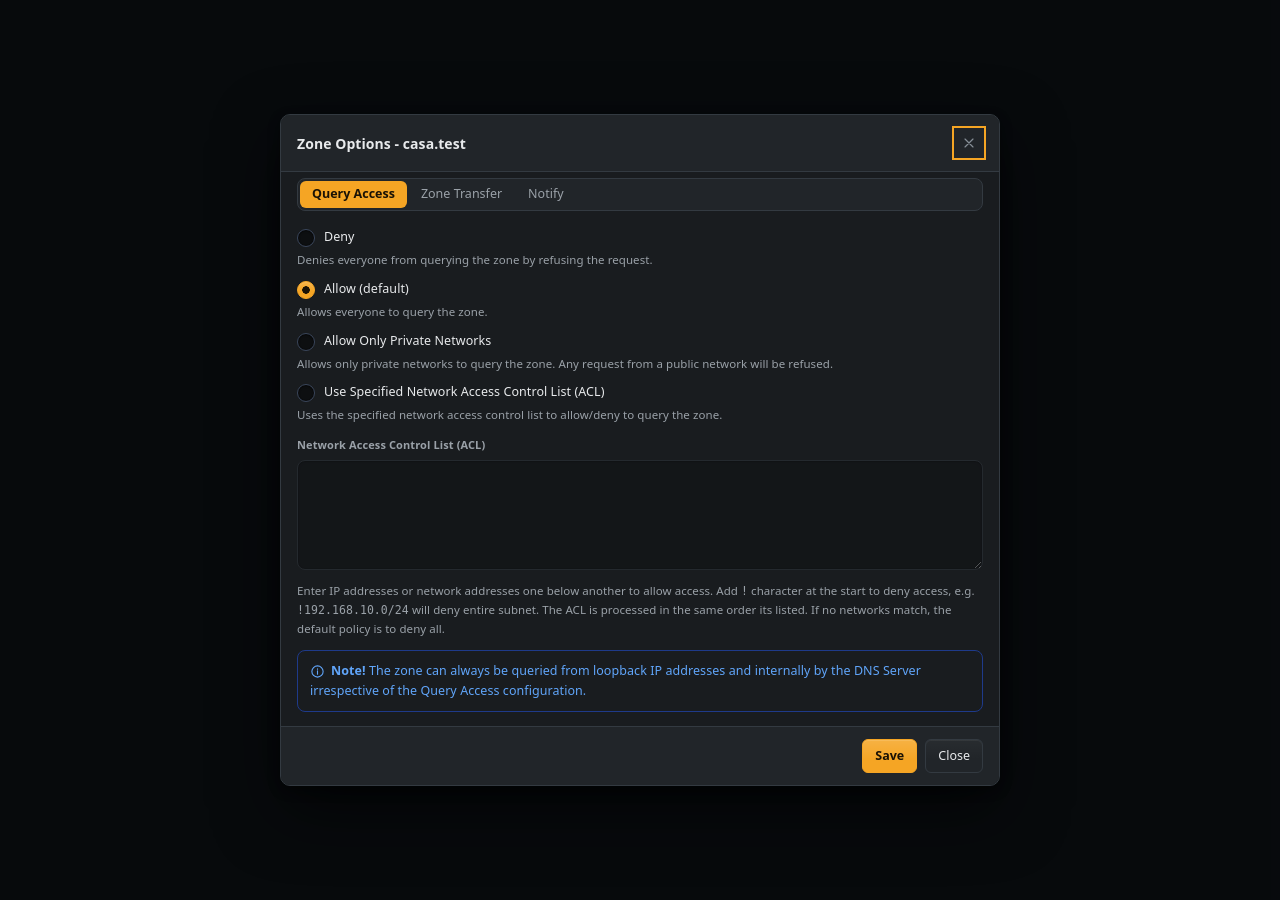
Test case: Zone Options: the explanation under each radio › Notify on a Catalog: the separate-servers radio and the Secondary Catalog list help
This screenshot has width=1280, height=900.
Click the tab "Notify" at (546, 195), box [516,181,576,208]
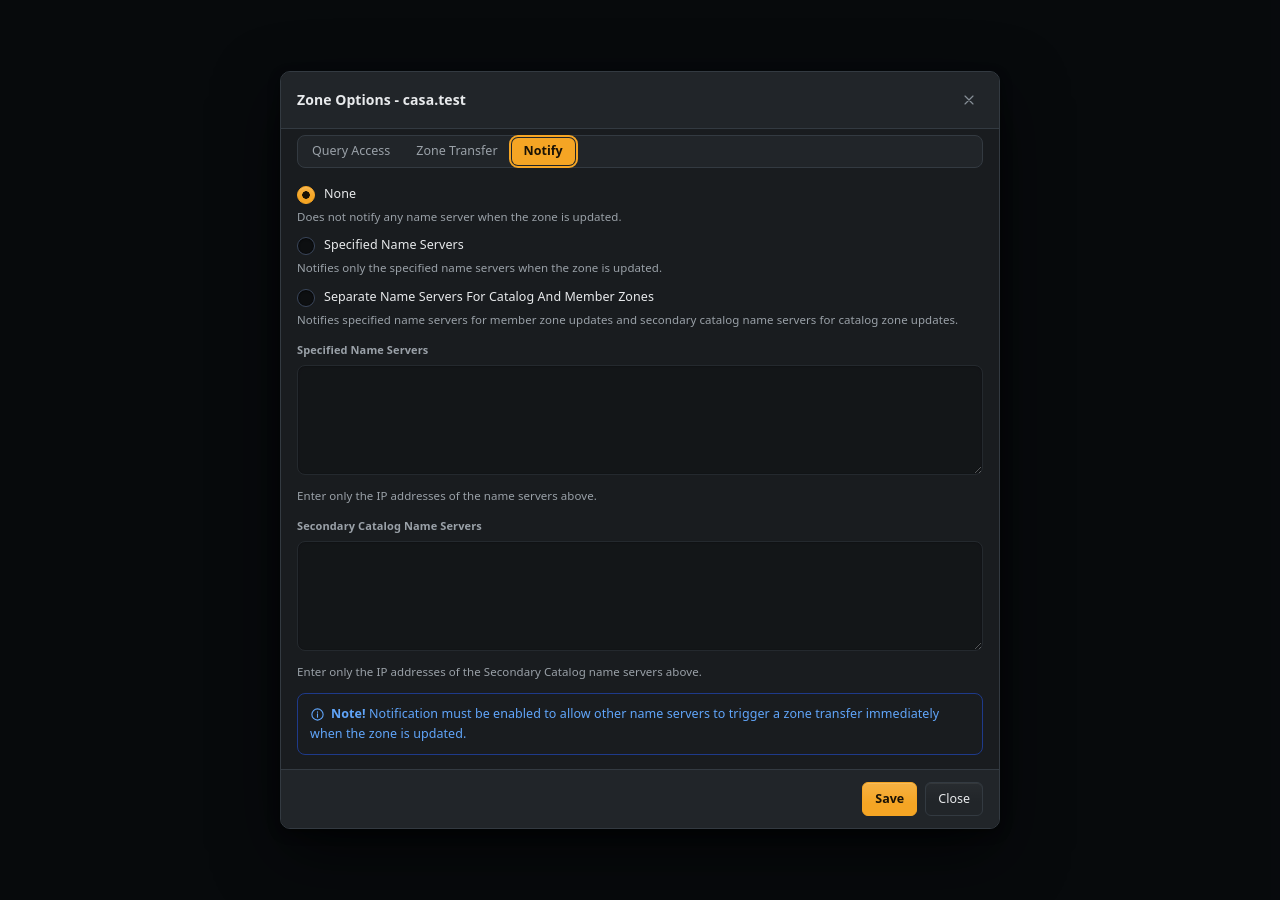
Expected: the text "Notifies specified name servers for member zone updates and secondary catalog name servers for catalog zone updates." is shown, [297,312,958,327]
Expected: the text "Enter only the IP addresses of the Secondary Catalog name servers above." is shown, [297,664,702,679]
